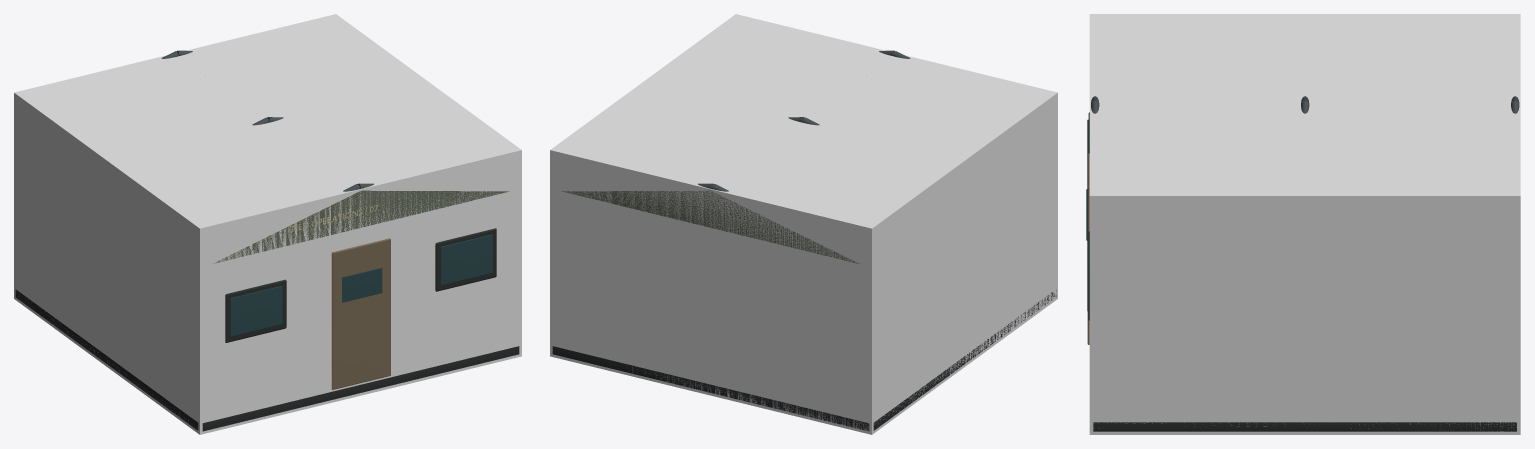
The model's file is m2_field_shelter.glb.
3 views of the same model, side by side, from view 1: azimuth 30°, elevation 25°; view 2: azimuth 150°, elevation 25°; view 3: azimuth 270°, elevation 25° (orthographic). The views are drawn at different scales.
Parts seen in each view (by area): view 1: COL_m2_field_shelter, m2_field_shelter_nc7_coating, m2_field_shelter_nc7_polymer, m2_field_shelter_nc7_fabric, m2_field_shelter_nc7_glass; view 2: COL_m2_field_shelter, m2_field_shelter_nc7_fabric, m2_field_shelter_nc7_polymer; view 3: COL_m2_field_shelter, m2_field_shelter_nc7_polymer.
Boxes of the visible parts, left/top/right/bottom form: COL_m2_field_shelter: left=14, top=14, right=521, bottom=434; m2_field_shelter_nc7_coating: left=331, top=238, right=390, bottom=389; m2_field_shelter_nc7_polymer: left=15, top=228, right=519, bottom=431; m2_field_shelter_nc7_fabric: left=213, top=190, right=509, bottom=263; m2_field_shelter_nc7_glass: left=230, top=234, right=492, bottom=336; COL_m2_field_shelter: left=550, top=14, right=1057, bottom=434; m2_field_shelter_nc7_fabric: left=562, top=190, right=859, bottom=263; m2_field_shelter_nc7_polymer: left=552, top=290, right=1056, bottom=431; COL_m2_field_shelter: left=1089, top=14, right=1520, bottom=434; m2_field_shelter_nc7_polymer: left=1088, top=112, right=1516, bottom=431.
Bounding box in the file's own units: 4.9 × 3.06 × 4.94.
